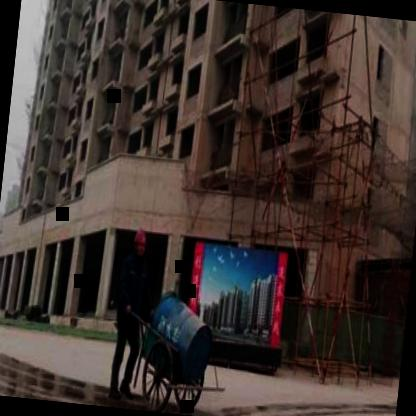helmet: (128, 225, 150, 262)
